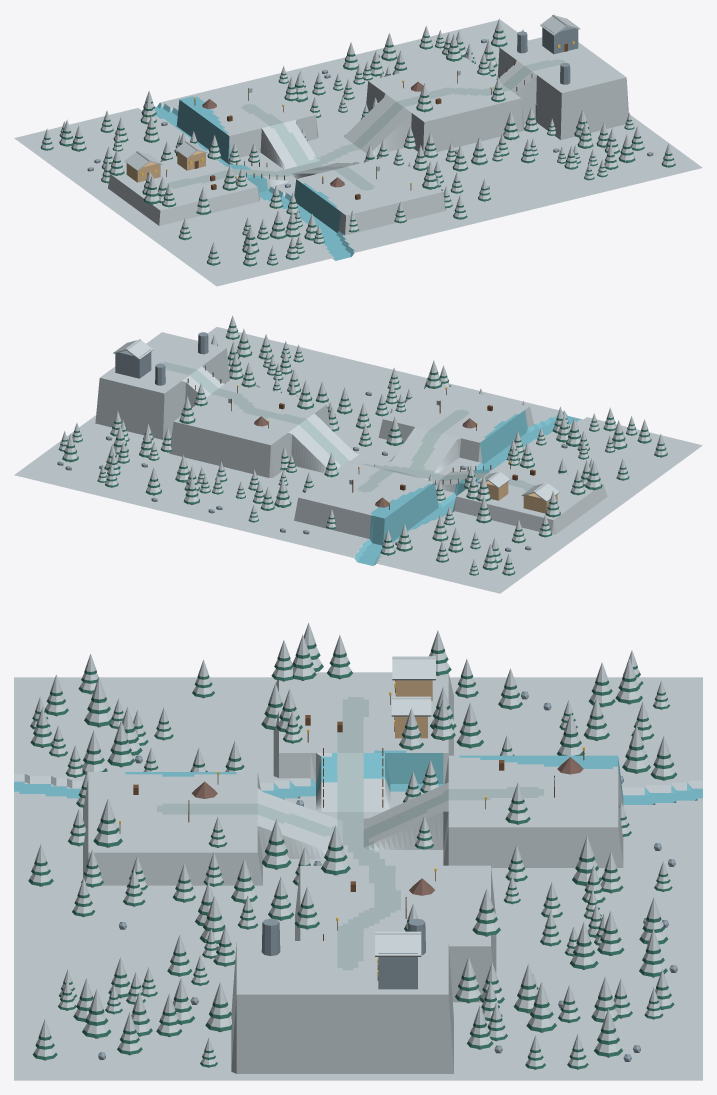
The model's file is terrain.glb.
3 renders of one model, top to bottom at view 1: azimuth 30°, elevation 25°; view 2: azimuth 150°, elevation 25°; view 3: azimuth 270°, elevation 25°, orthographic. The views are drawn at different scales.
Visible parts, largest first — view 1: Snowday_Terrain, Snowday_Scenery; view 2: Snowday_Terrain, Snowday_Scenery; view 3: Snowday_Terrain, Snowday_Scenery.
Part boxes in pixels (x1,y1,x2,y2): Snowday_Terrain: (14,19,702,286); Snowday_Scenery: (40,14,675,266); Snowday_Terrain: (14,327,702,593); Snowday_Scenery: (57,315,667,575); Snowday_Terrain: (14,672,702,1080); Snowday_Scenery: (28,623,677,1069).
Size of the model in its own units: 144 by 21.56 by 104.
